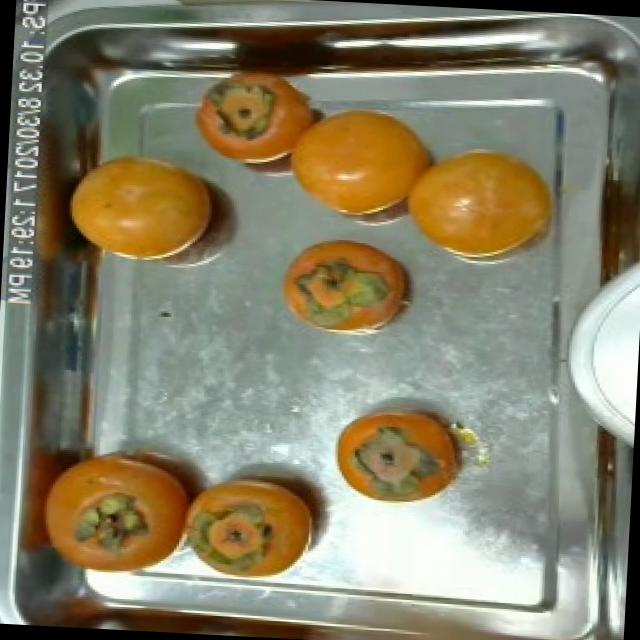Fruit: (16, 427, 224, 581), (51, 134, 232, 281), (266, 91, 448, 232), (390, 136, 568, 272), (175, 457, 342, 585), (322, 392, 480, 516), (269, 226, 426, 340), (574, 157, 640, 302)
